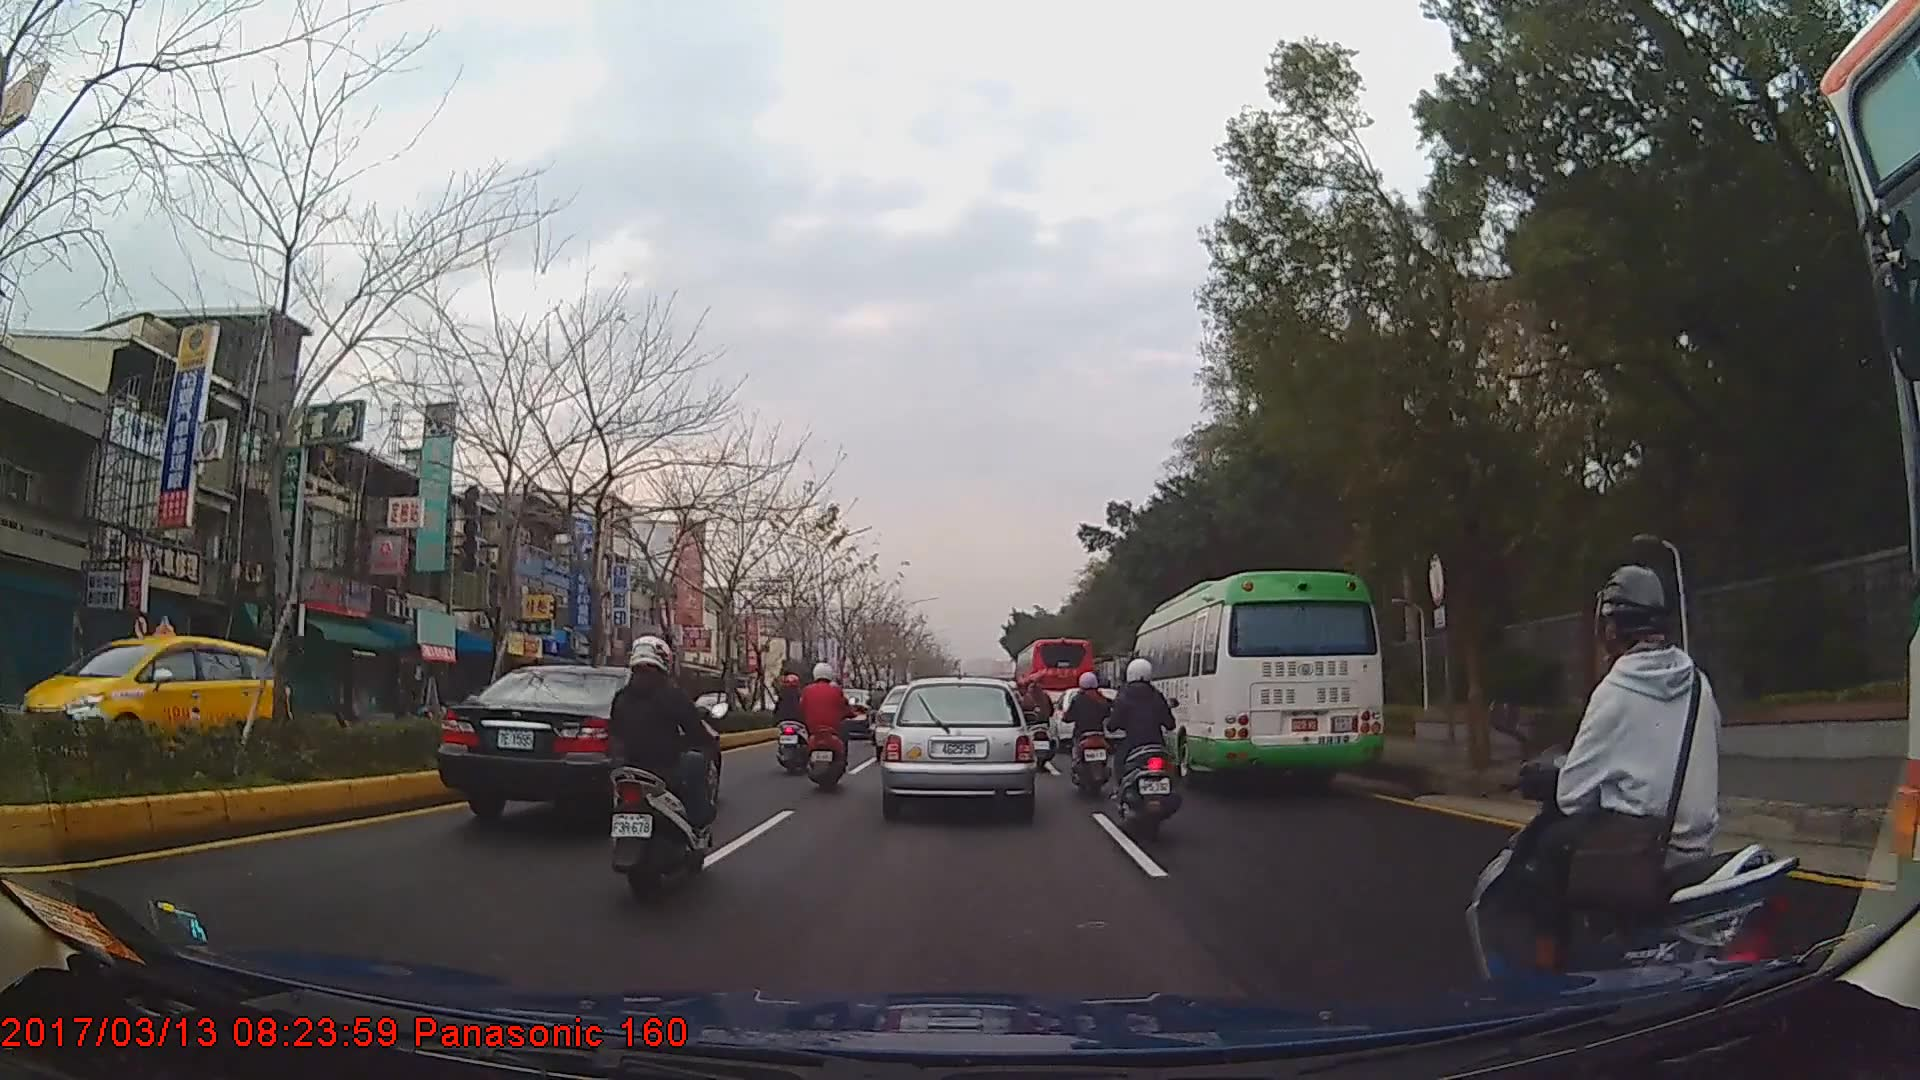rider: (1474, 565, 1806, 1002), (609, 631, 730, 901), (1109, 658, 1186, 839), (1062, 668, 1116, 799), (799, 662, 851, 795), (774, 675, 814, 775), (1015, 670, 1052, 770)
vehicle: (1124, 571, 1385, 798), (434, 662, 723, 833), (20, 611, 293, 770), (879, 677, 1033, 816), (1012, 630, 1096, 726)
